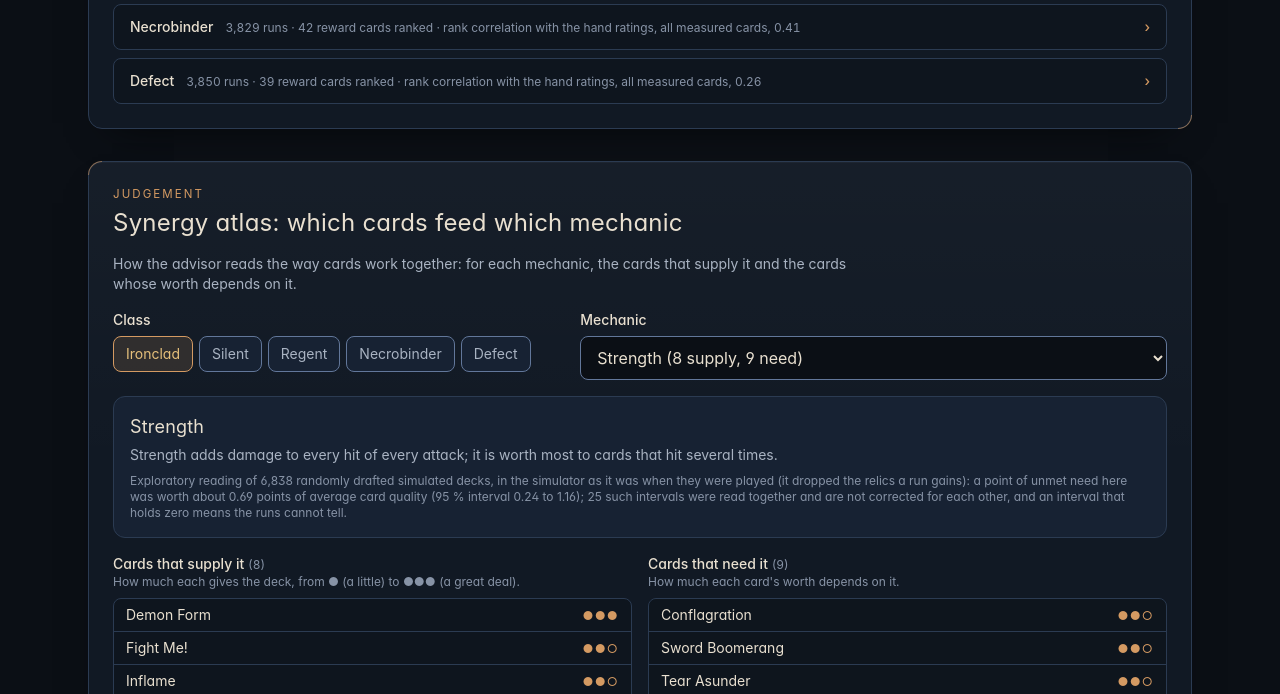
the cards and the atlas › answers the class and the mechanic it is asked about
(page scrolled)
Click the radio button labelled "Silent" at (230, 354), box [199,336,262,372]
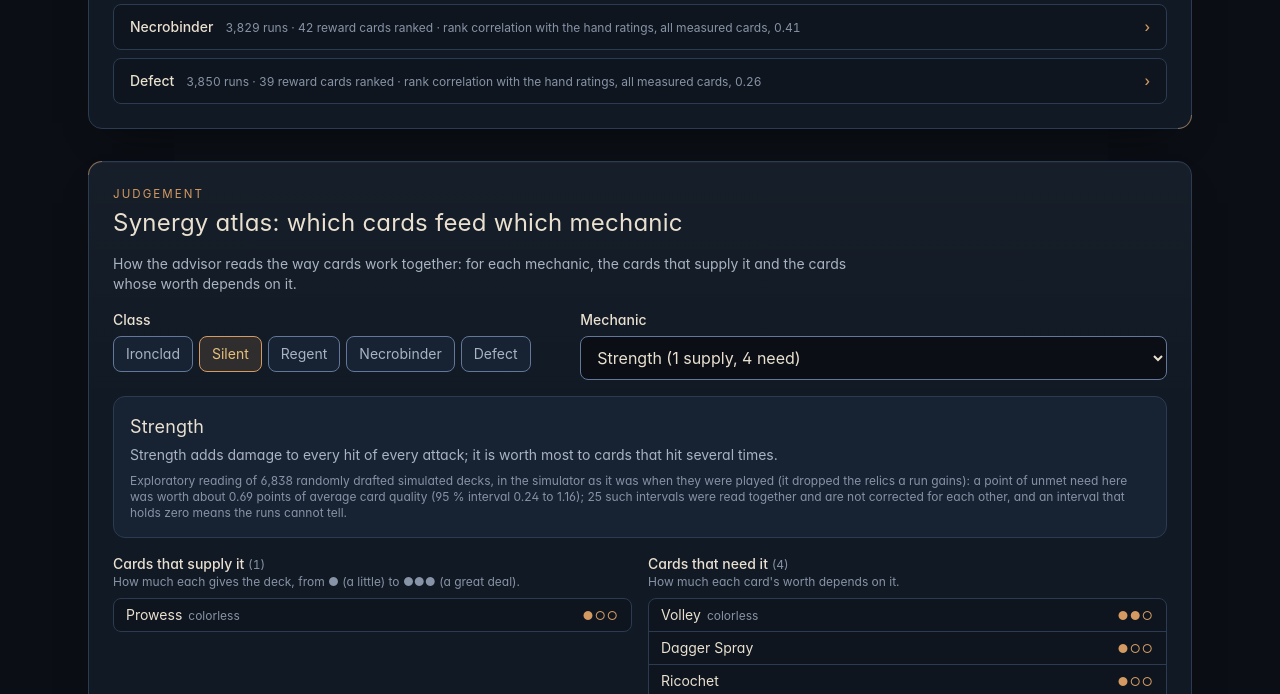
Select "Poison (9 supply, 5 need)" in the dropdown labelled "Mechanic" at (874, 358), box [580,336,1167,380]
(page scrolled)
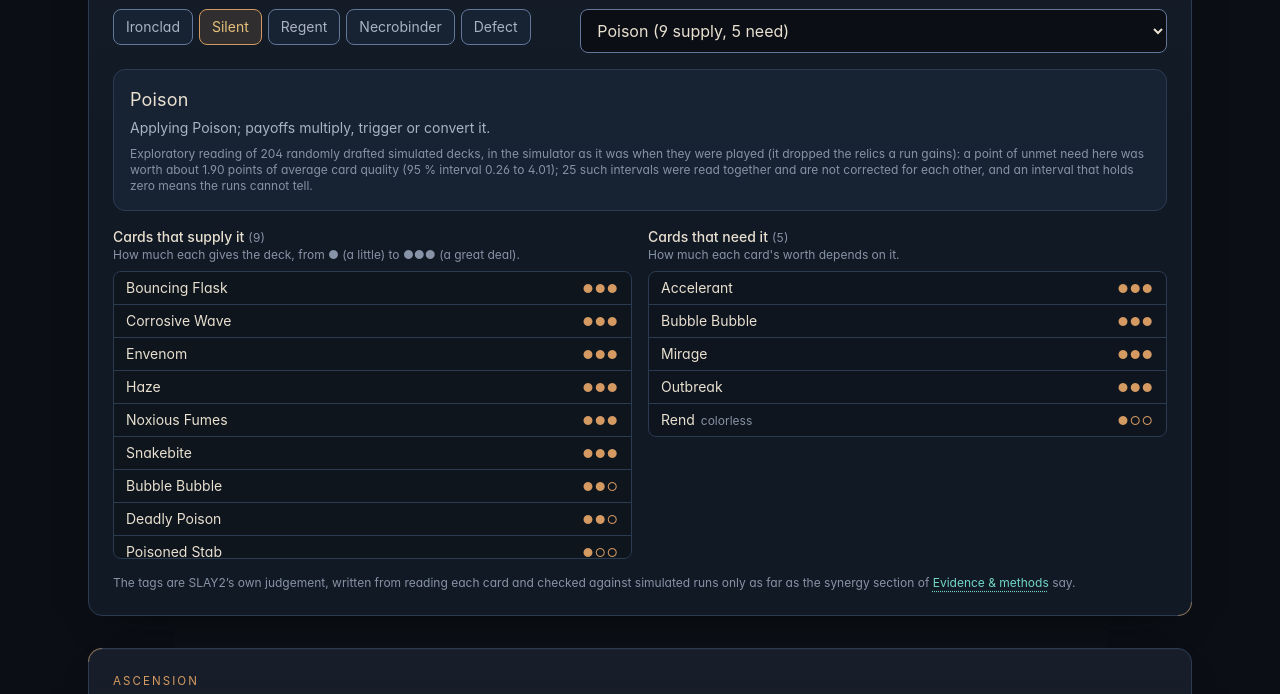
Expected: the text with id "synergy" does not show "Demon Form"
Expected: the heading "Poison" is shown, [130,88,189,110]
